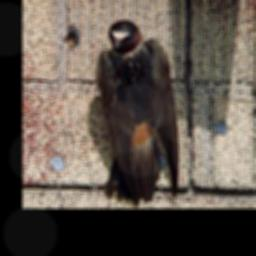Swallow: (97, 19, 182, 207)
